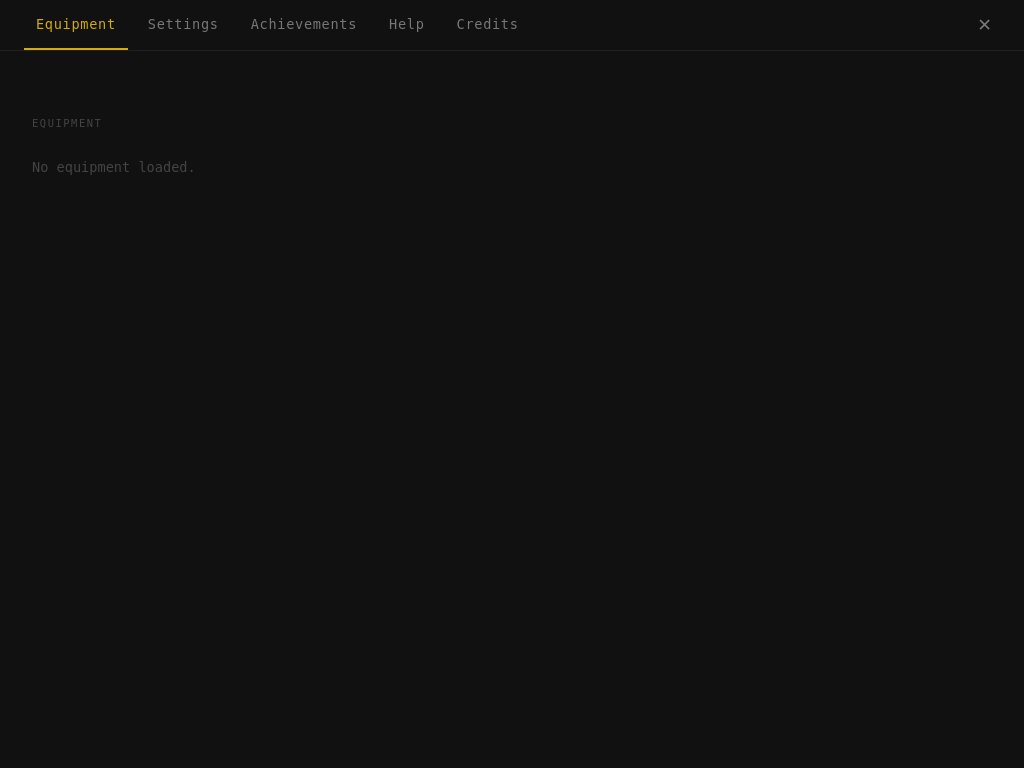
Test: CharacterScreen › hints › the Help tab shows the journal of the hints discovered
Click the button with class "tab-btn" showing "Help". click: (407, 25)
box: [377,0,437,50]
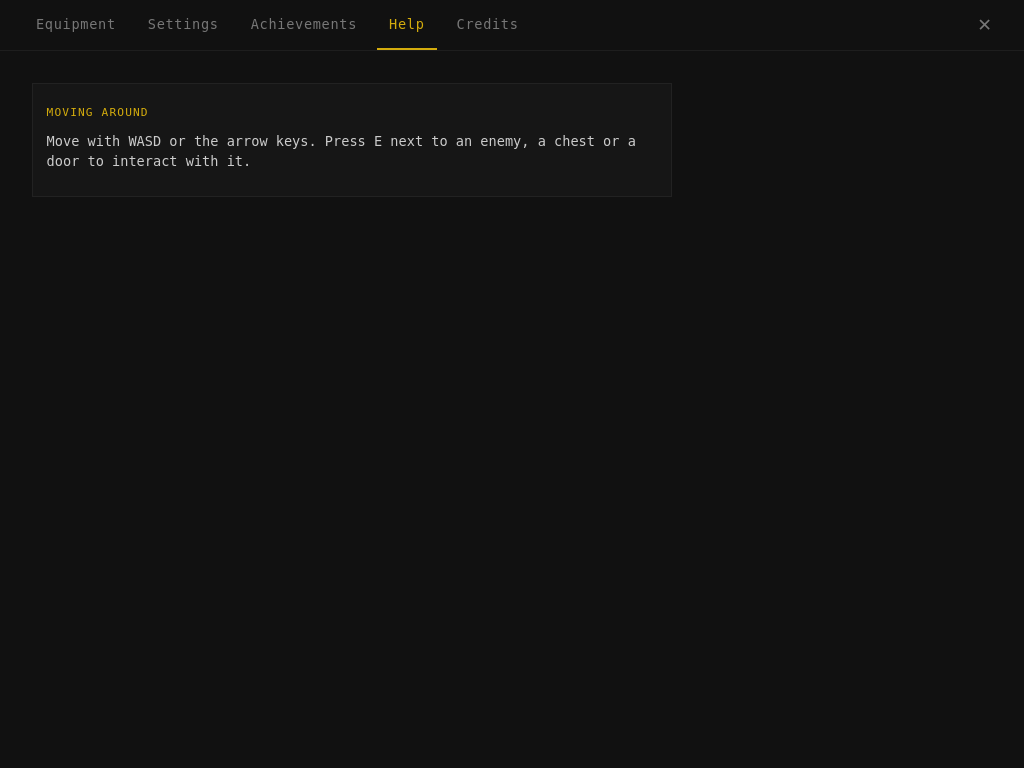
Check: the heading with class "entry-title" reads "Moving around", box [47,106,149,119]
